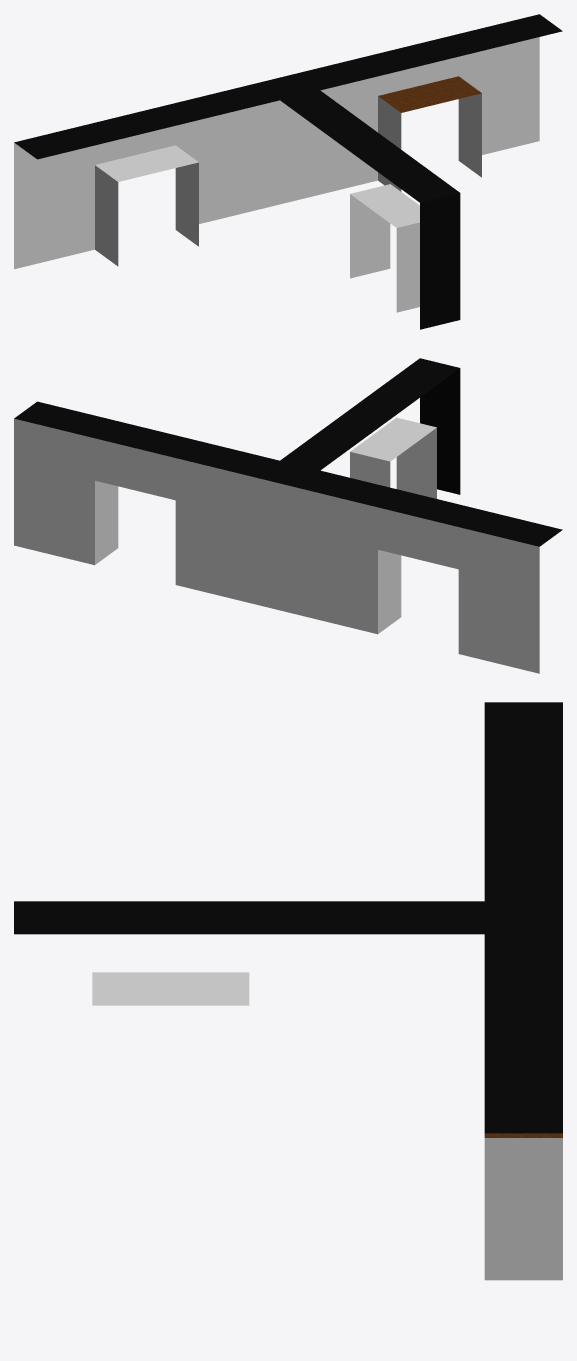
File: house_floor_base_walls.fbx
3 renders of one model, top to bottom at view 1: azimuth 30°, elevation 25°; view 2: azimuth 150°, elevation 25°; view 3: azimuth 270°, elevation 25°, orthographic. The views are drawn at different scales.
Visible parts, largest first — view 1: interior-walls; view 2: interior-walls; view 3: interior-walls.
Boxes of the visible parts, x1,y1,x2,y2 form: interior-walls: (14,14,562,329); interior-walls: (14,358,562,673); interior-walls: (14,702,562,1280).
Size of the model in its own units: 416 by 96 by 224.
